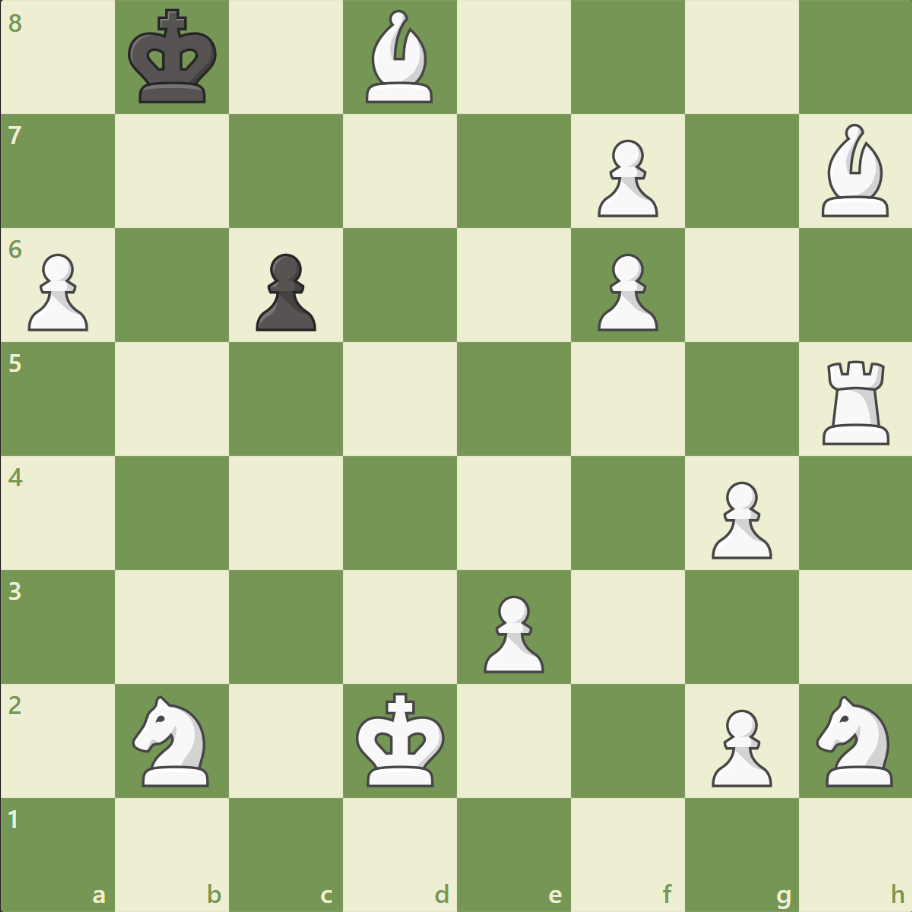B: (358, 6, 442, 109), (812, 120, 896, 222)
K: (351, 685, 451, 793)
N: (124, 688, 222, 791), (806, 688, 903, 791)
P: (20, 246, 95, 337), (701, 473, 776, 564), (474, 586, 549, 677), (701, 700, 776, 791), (588, 132, 662, 223), (588, 246, 662, 337)
R: (814, 352, 897, 449)
k: (124, 4, 224, 112)
p: (247, 246, 322, 337)
